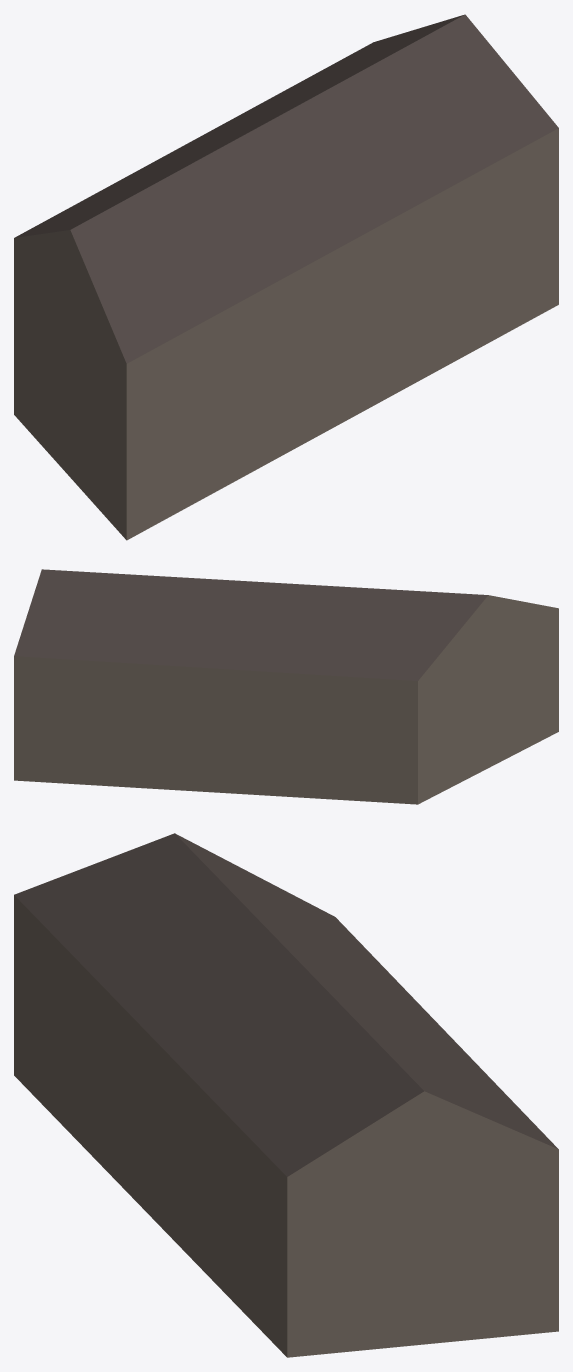
The picture shows the model from 3 angles, top to bottom: view 1: azimuth 30°, elevation 25°; view 2: azimuth 150°, elevation 25°; view 3: azimuth 270°, elevation 25°; orthographic projection. The views are drawn at different scales.
Parts seen in each view (by area): view 1: HP-w1198845822; view 2: HP-w1198845822; view 3: HP-w1198845822.
Part boxes in pixels (x1=…): HP-w1198845822: x1=14, y1=14, x2=558, y2=540; HP-w1198845822: x1=14, y1=569, x2=558, y2=804; HP-w1198845822: x1=14, y1=833, x2=558, y2=1357.
Size of the model in its own units: 20.11 by 8.41 by 16.41.
